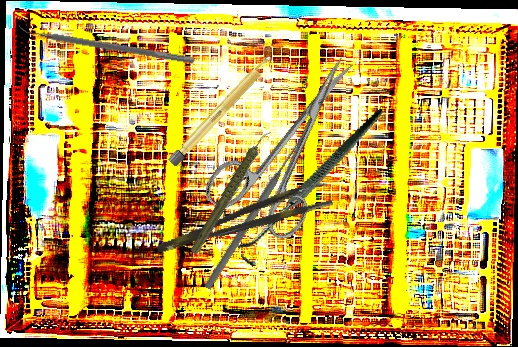Handpiece: (168, 128, 296, 257)
Hook Surgical: (211, 109, 416, 269)
Iris Scissors: (199, 34, 392, 252)
Pusher: (202, 135, 306, 292)
Scalpel Handle: (167, 52, 277, 168)
Spatula Surgical: (13, 20, 197, 65)
Tissue Forceps: (151, 179, 334, 256)
